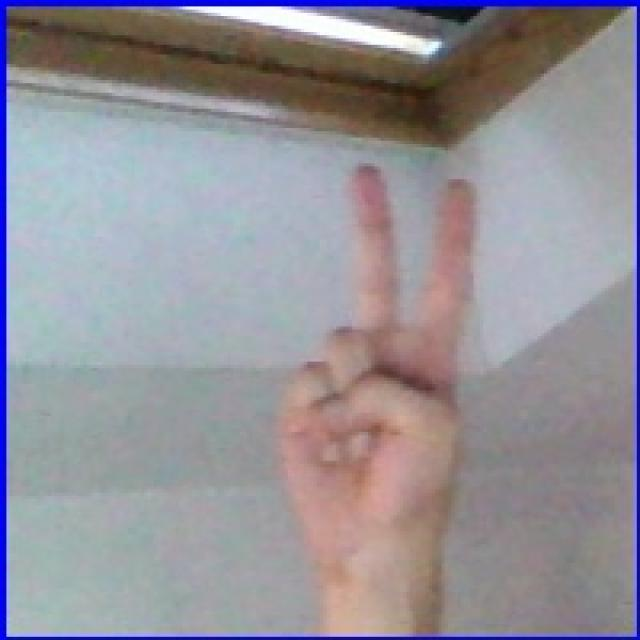Letra-V: (253, 133, 497, 581)
